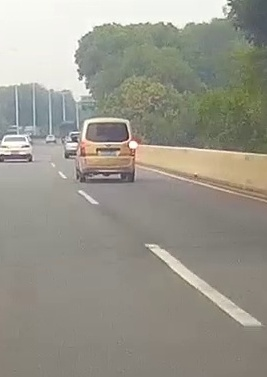L_light: (80, 142, 85, 156), (0, 145, 8, 148)
R_light: (131, 141, 135, 156), (22, 145, 29, 148)
T_light: (103, 122, 111, 125), (13, 137, 18, 138)
day-no: (0, 135, 32, 161)
day-right: (79, 118, 135, 181)
